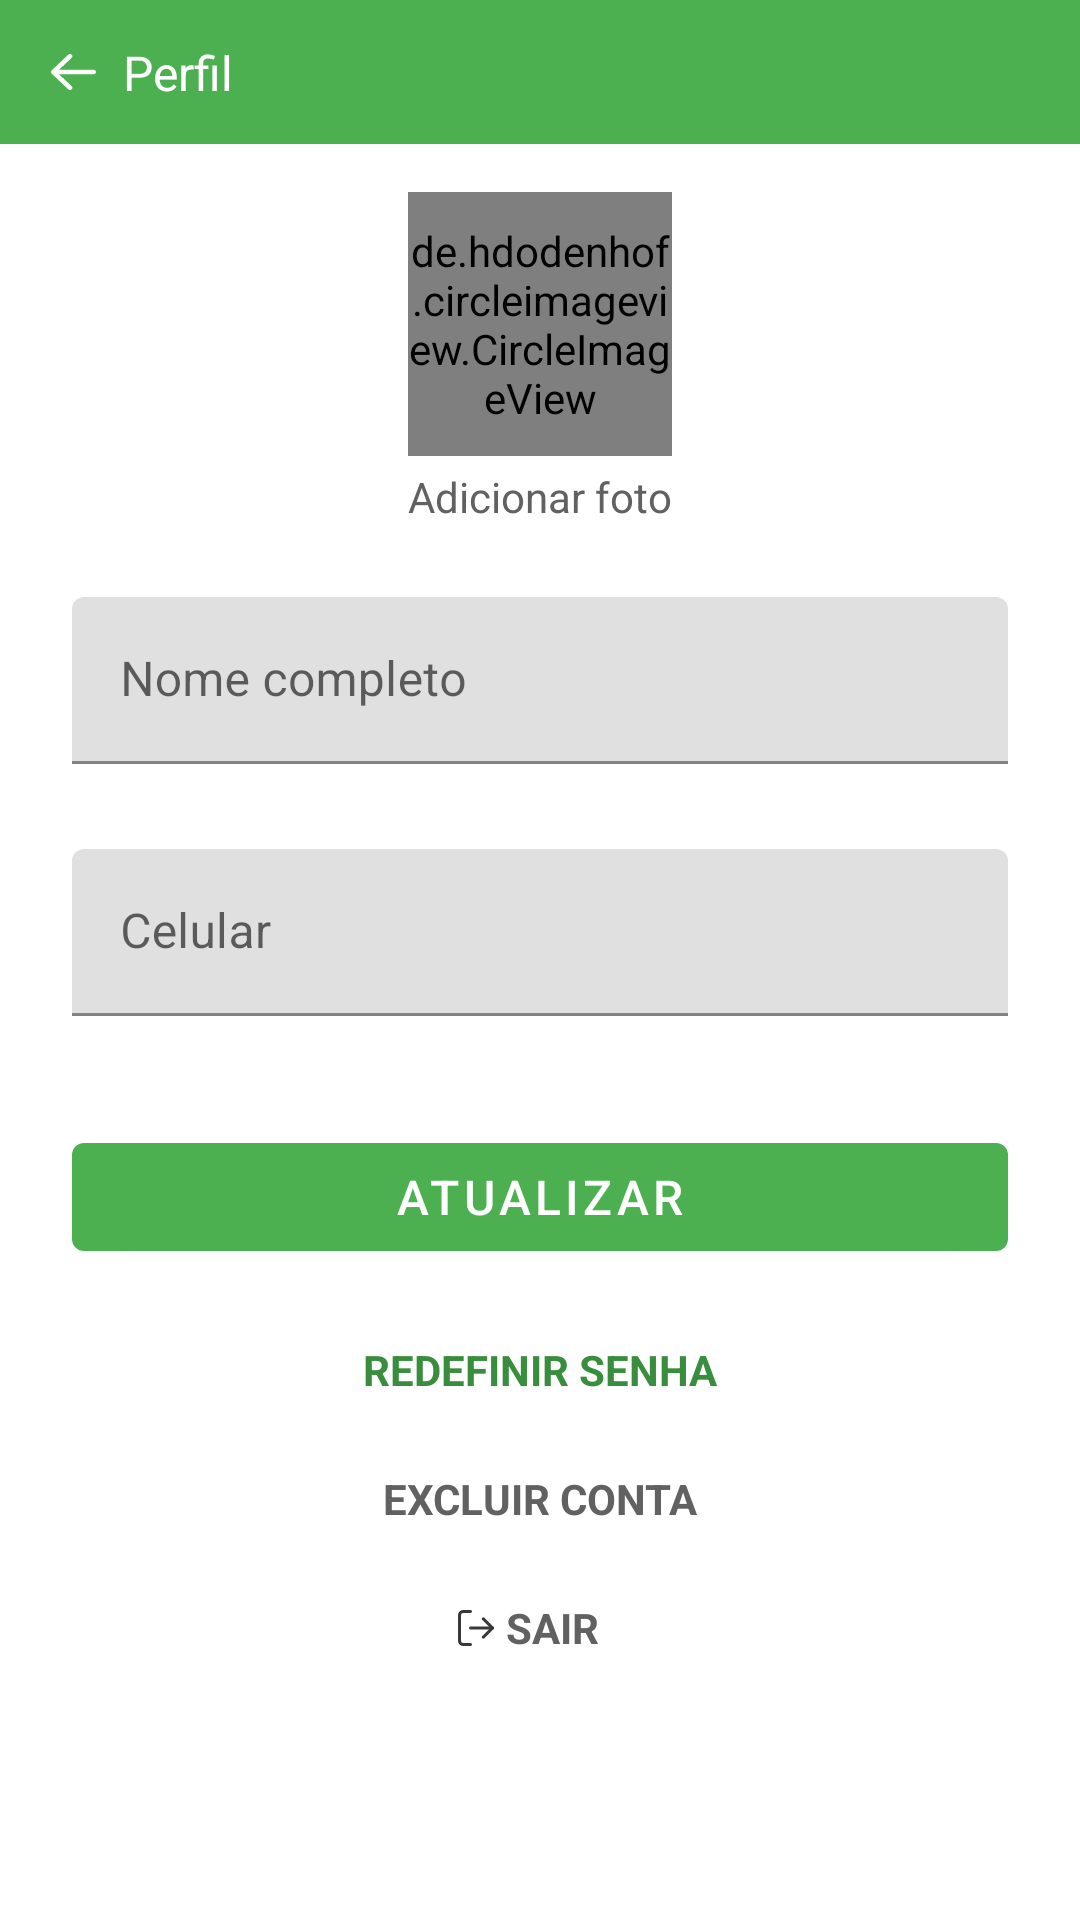

Icons on this 1080×1920 Android screen, each with the point to tap as [x,y]:
arrow back: [73,72]
log out: [476,1628]
